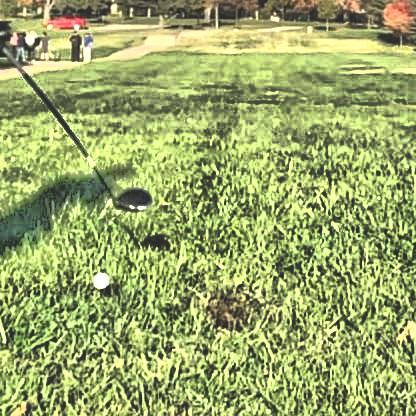golfball: (90, 267, 107, 286)
